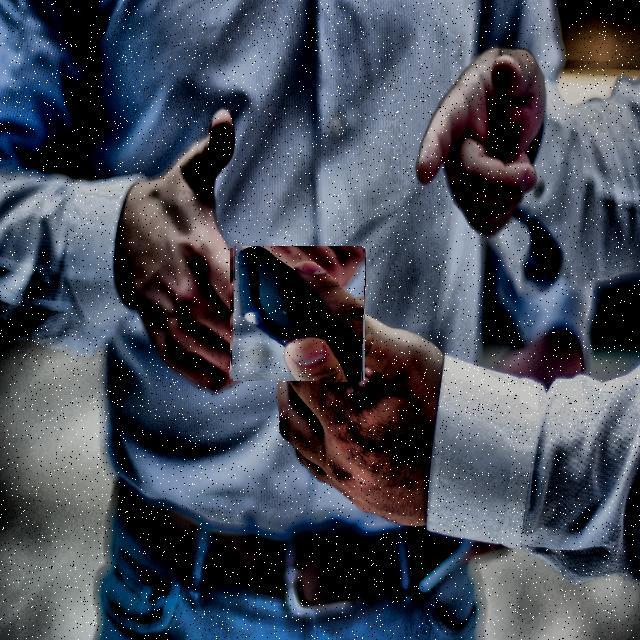Phone: (230, 246, 365, 381)
